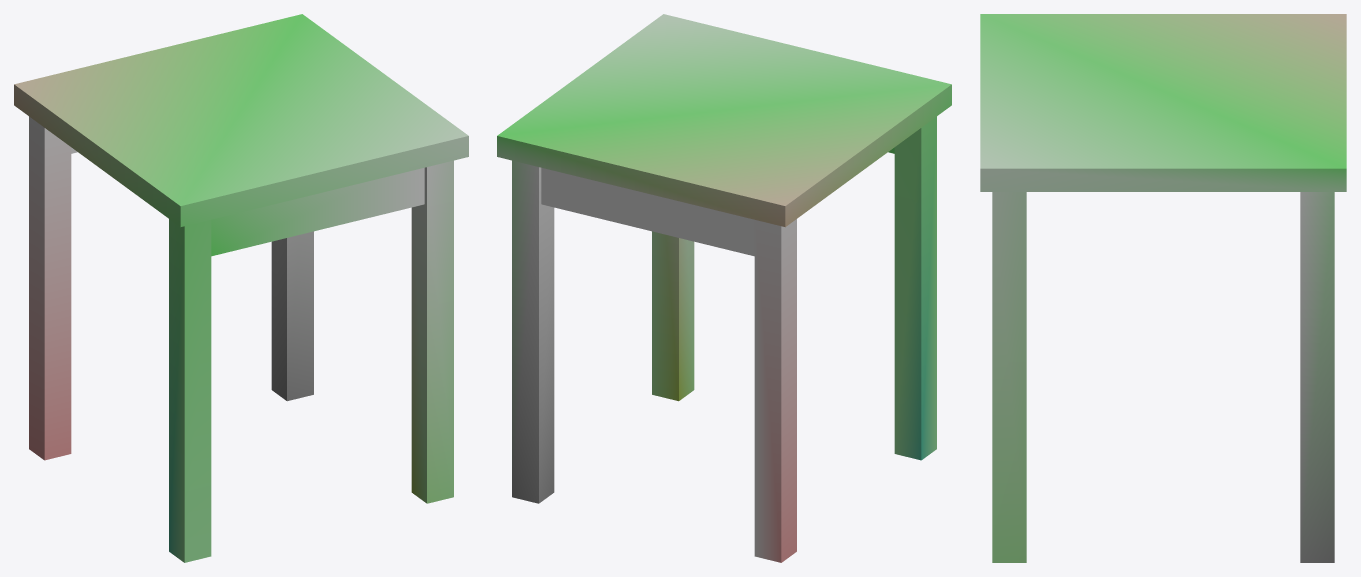
Rendered from Table_7.fbx.
The picture shows the model from 3 angles, left to right: view 1: azimuth 30°, elevation 25°; view 2: azimuth 150°, elevation 25°; view 3: azimuth 270°, elevation 25°; orthographic projection. The views are drawn at different scales.
Parts seen in each view (by area): view 1: Table_7; view 2: Table_7; view 3: Table_7.
Boxes of the visible parts, x1,y1,x2,y2 form: Table_7: (14,14,468,562); Table_7: (497,14,951,562); Table_7: (980,14,1346,562).
Bounding box in the file's own units: 0.856 × 1.03 × 0.856.
